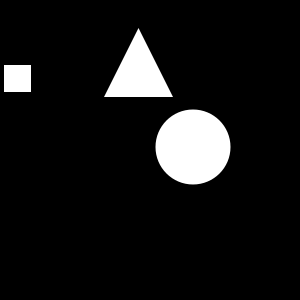circle: (4, 65, 31, 92)
rectangle: (156, 110, 230, 184)
triangle: (104, 28, 173, 97)
